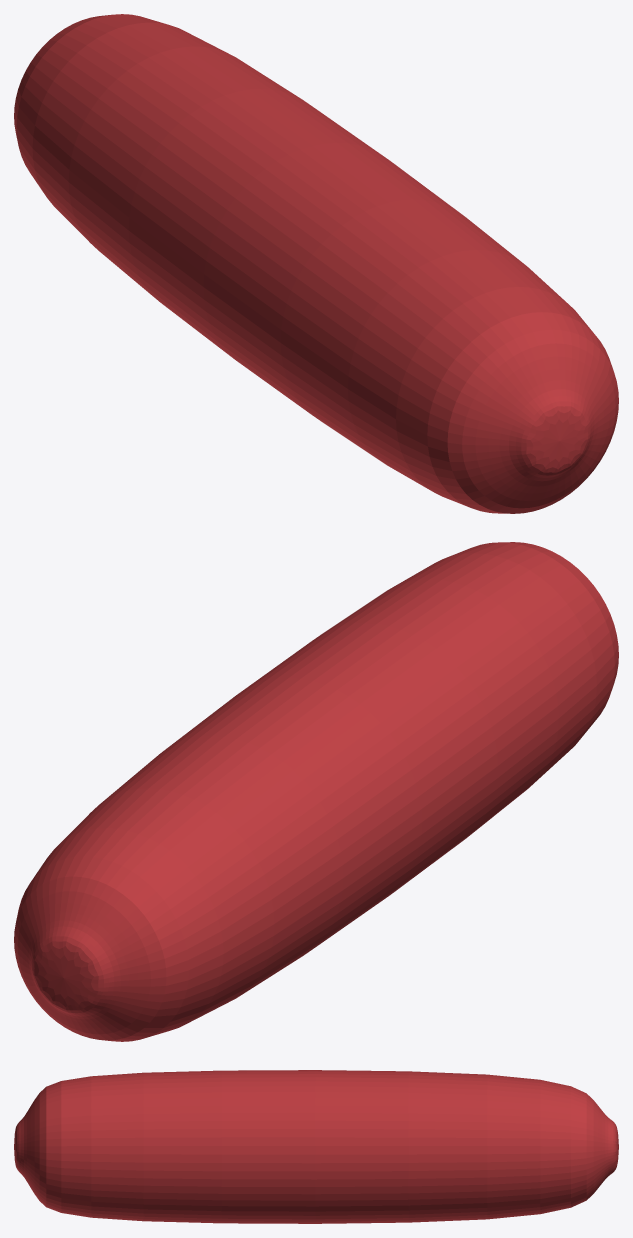
The model's file is pepino.fbx.
The picture shows the model from 3 angles, top to bottom: view 1: azimuth 30°, elevation 25°; view 2: azimuth 150°, elevation 25°; view 3: azimuth 270°, elevation 25°; orthographic projection. The views are drawn at different scales.
Visible parts, largest first — view 1: Cylinder; view 2: Cylinder; view 3: Cylinder.
Boxes of the visible parts, <box> form: Cylinder: <box>14,14,618,513</box>; Cylinder: <box>14,542,618,1041</box>; Cylinder: <box>14,1070,618,1223</box>.
Size of the model in its own units: 5.71 by 5.71 by 22.47.
